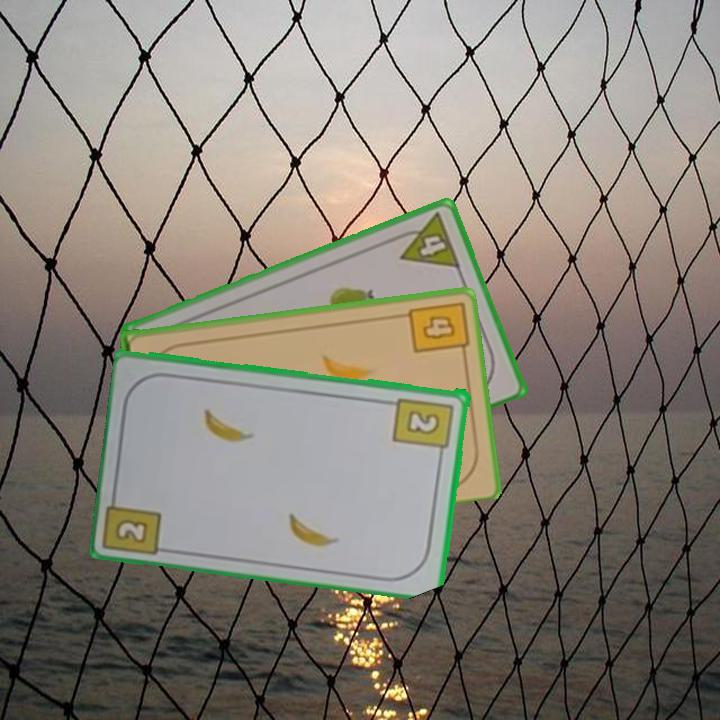2b: (391, 393, 457, 461), (115, 516, 152, 546)
4b: (404, 298, 470, 360)
4p: (389, 209, 463, 271)
